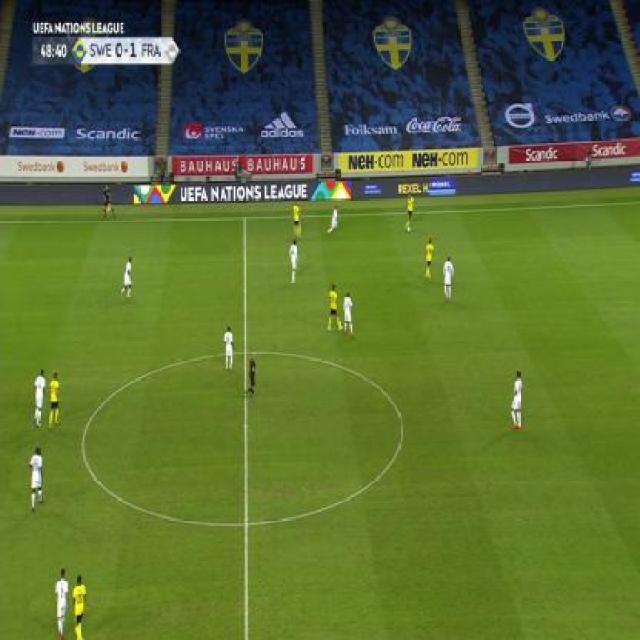ball: (407, 227, 412, 233)
player: (52, 567, 72, 636), (26, 445, 46, 513), (69, 572, 89, 637), (30, 367, 49, 429), (508, 370, 524, 433), (47, 368, 63, 430), (326, 282, 342, 333), (118, 254, 134, 299), (245, 353, 259, 402), (341, 290, 355, 338), (441, 254, 455, 302), (222, 323, 236, 371), (422, 235, 436, 280), (288, 237, 301, 285), (403, 190, 416, 232), (102, 183, 116, 219), (291, 202, 302, 239), (327, 205, 340, 234)
